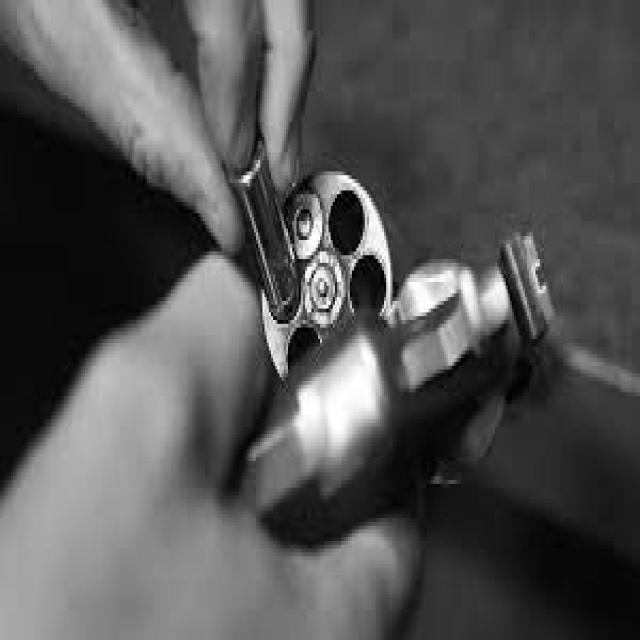handgun: (240, 151, 550, 546)
